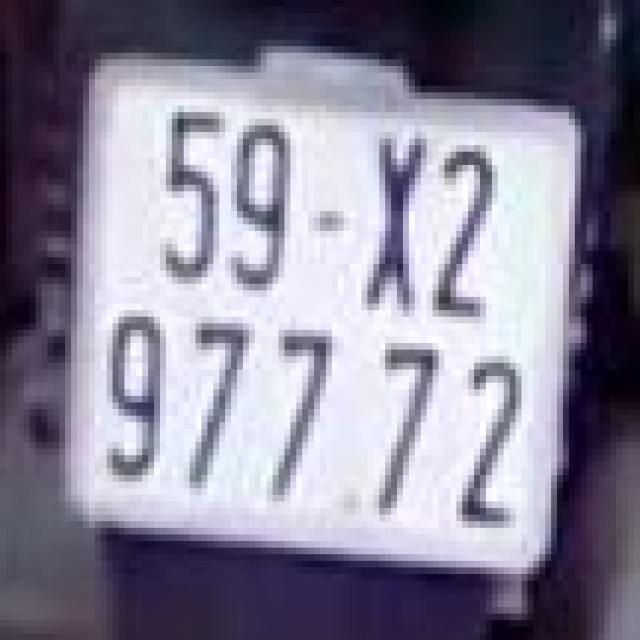2: (454, 337, 530, 541), (430, 129, 500, 333)
5: (151, 102, 222, 287)
7: (358, 330, 442, 548), (175, 304, 264, 508), (264, 310, 340, 515)
9: (225, 112, 314, 297), (104, 297, 175, 501)
X: (364, 122, 424, 313)
